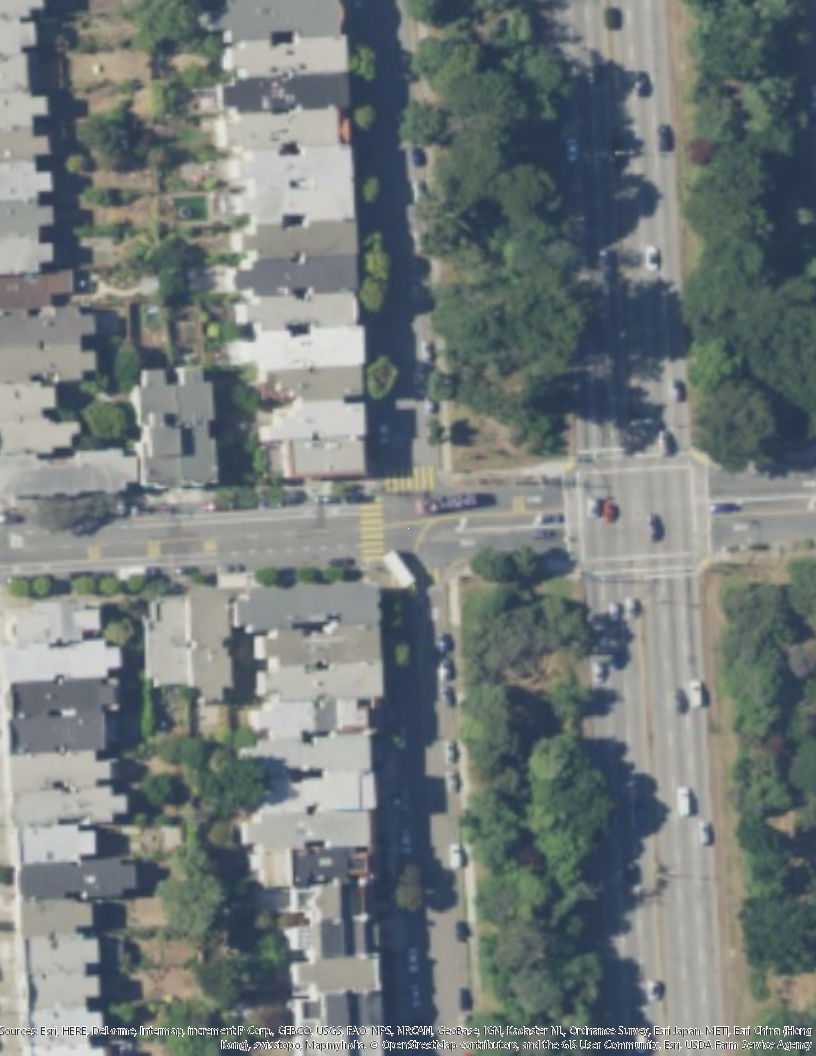zebracross: (359, 502, 386, 559), (384, 466, 437, 494)
